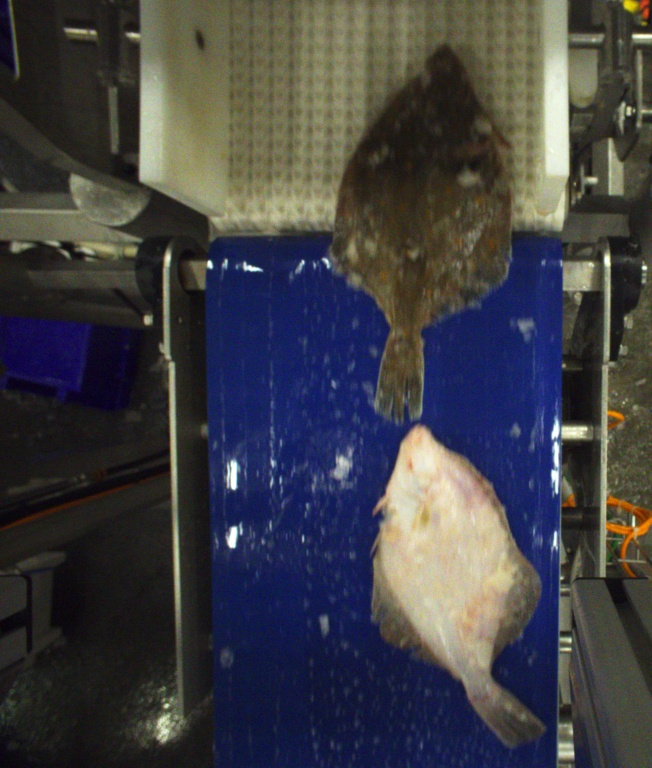PLE: (333, 41, 513, 418)
